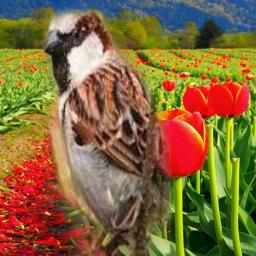Sparrow: (42, 0, 171, 256)
